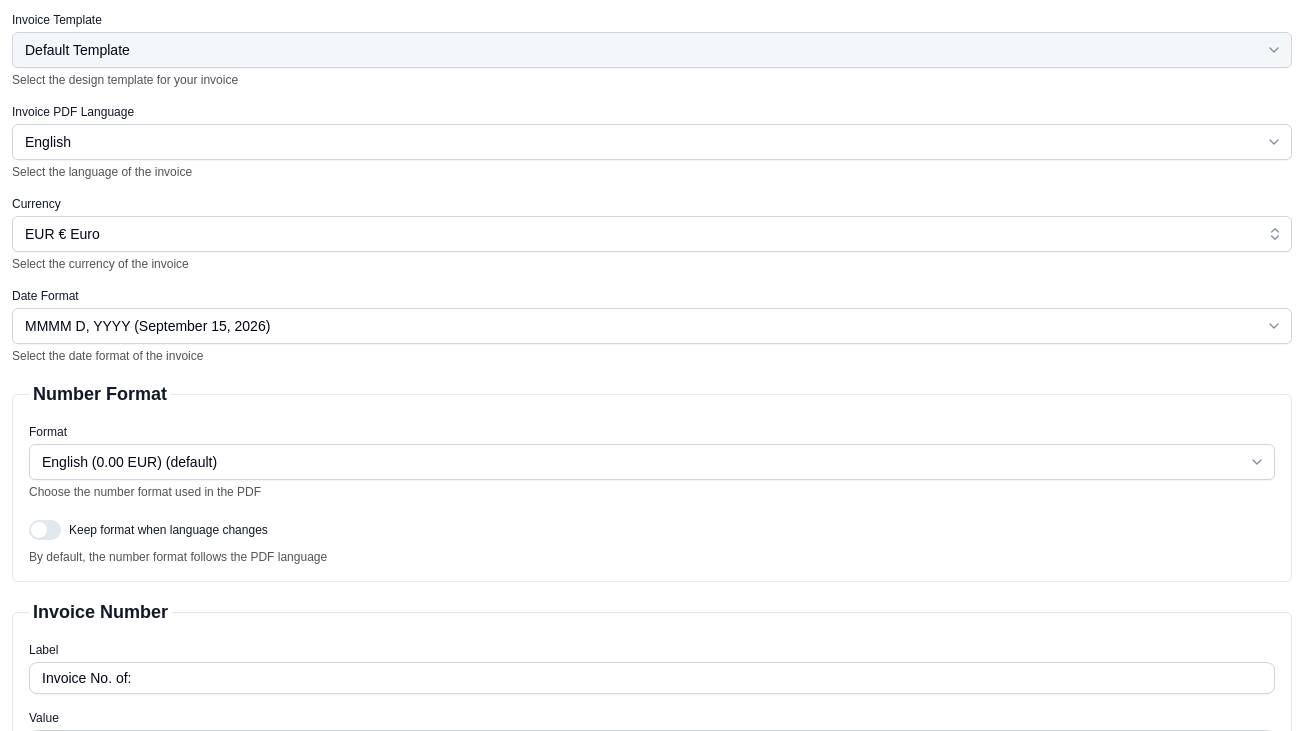
Test: GeneralInformation date helper texts › "Keep format when language changes" switch › lets the number format follow the language while it is off
The width and height of the screenshot is (1304, 731).
Select "Polish" in the dropdown labelled "Invoice PDF Language" at (652,142), box left=12, top=124, right=1292, bottom=160
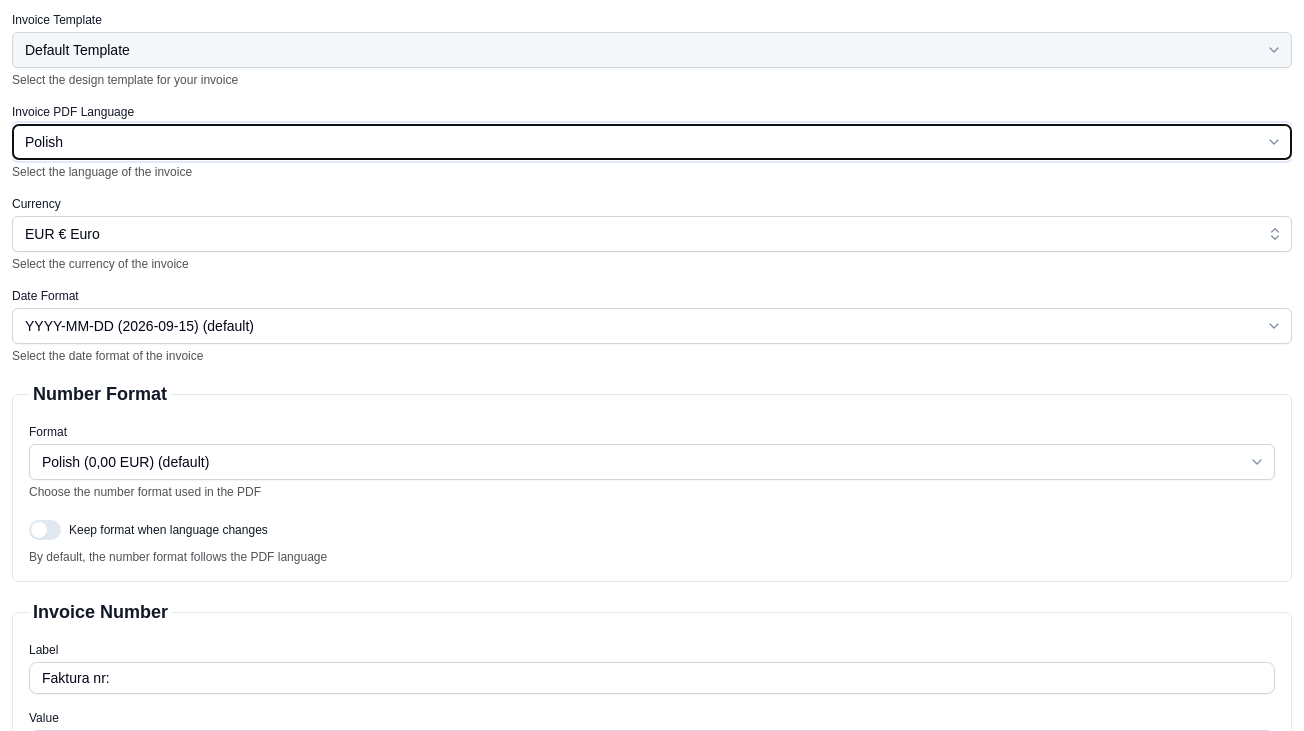
Expected: the dropdown labelled "Format" shows "Polish (0,00 EUR) (default)", left=29, top=444, right=1275, bottom=480
